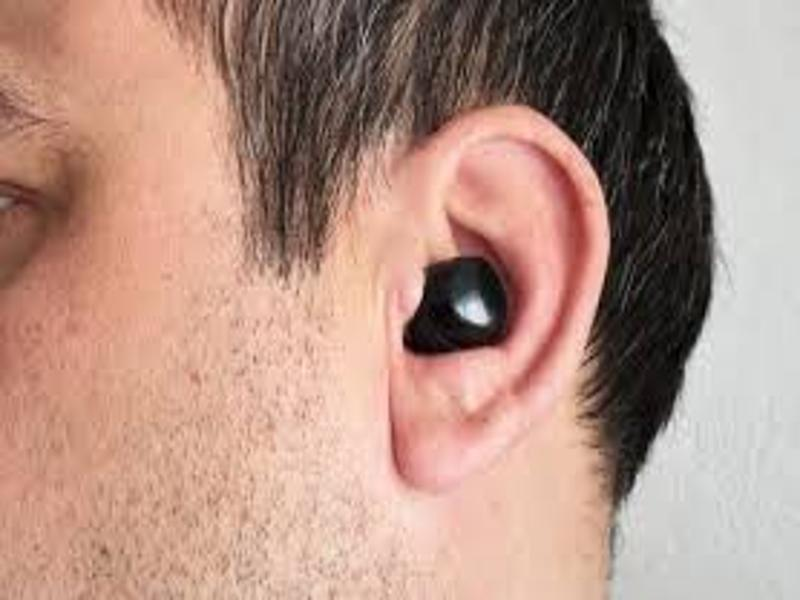headphone: (402, 256, 508, 355)
